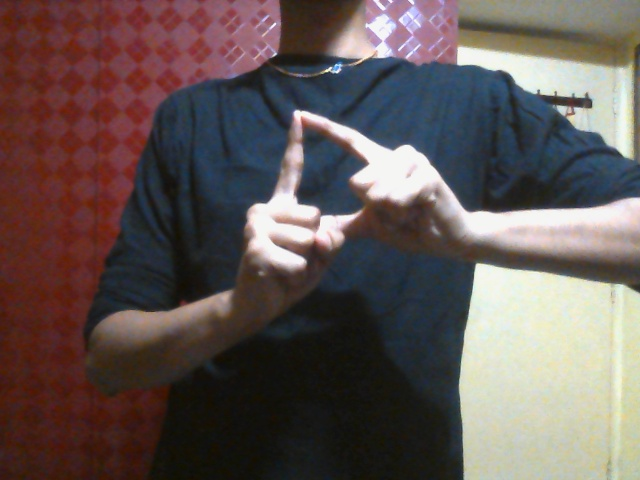D: (232, 109, 464, 332)
